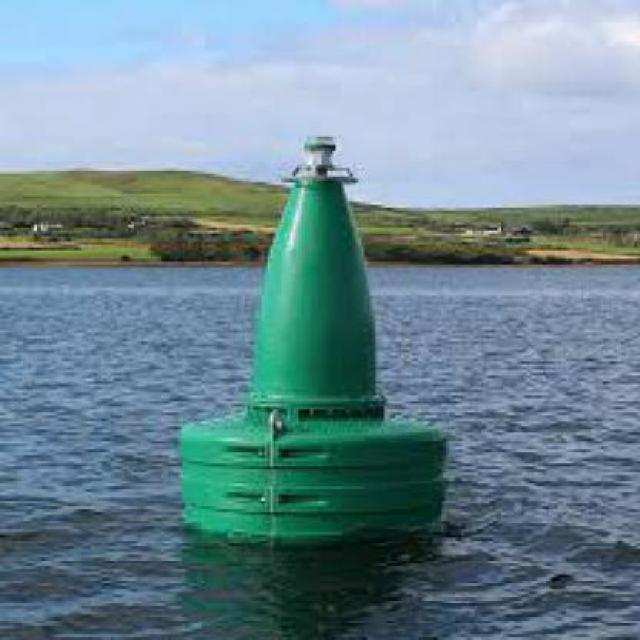buoy: (163, 129, 465, 550)
